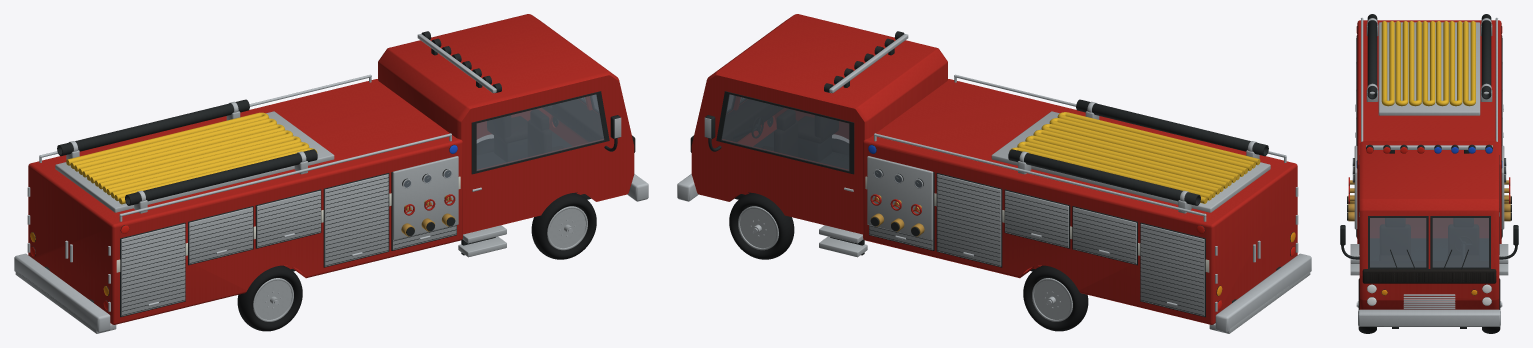
The model's file is fire-engine.glb.
3 renders of one model, left to right at view 1: azimuth 30°, elevation 25°; view 2: azimuth 150°, elevation 25°; view 3: azimuth 270°, elevation 25°, orthographic. The views are drawn at different scales.
Visible parts, largest first — view 1: Finite closed equipment module with wheel bays, Axle 1 left wheel bearing hub, Axle 1 bowed spring leaf 590 0, Seated folded delivery hose 0, Axle 1 left wheel seated through axle, Cab 1 side window finite glazing, Axle 1 left wheel rounded tyre carcass, Cab seat 1 backrest; view 2: Finite closed equipment module with wheel bays, Axle 1 left wheel bearing hub, Axle 1 bowed spring leaf 590 0, Seated folded delivery hose 0, Axle 1 left wheel seated through axle, Cab 1 side window finite glazing, Axle 1 left wheel rounded tyre carcass, Cab seat 1 backrest; view 3: Finite closed equipment module with wheel bays, Seated folded delivery hose 0, Axle 1 bowed spring leaf 590 0, Cab 1 side window finite glazing, Axle 1 left wheel bearing hub, Cab seat 1 backrest, Axle 1 left wheel seated through axle, Pump hose coupling 1 0, Axle 1 left wheel rounded tyre carcass, Forward headlamp 1 0 finite curved optic, Module side warning 1 0 finite curved optic, Module side warning 1 1 finite curved optic.
Boxes of the visible parts, <box> form: Finite closed equipment module with wheel bays: <box>28,14,634,324</box>; Axle 1 left wheel bearing hub: <box>15,111,587,333</box>; Axle 1 bowed spring leaf 590 0: <box>31,31,620,317</box>; Seated folded delivery hose 0: <box>66,112,317,204</box>; Axle 1 left wheel seated through axle: <box>14,34,648,332</box>; Cab 1 side window finite glazing: <box>404,94,604,187</box>; Axle 1 left wheel rounded tyre carcass: <box>237,138,596,331</box>; Cab seat 1 backrest: <box>487,99,635,156</box>; Finite closed equipment module with wheel bays: <box>691,14,1297,324</box>; Axle 1 left wheel bearing hub: <box>738,111,1310,333</box>; Axle 1 bowed spring leaf 590 0: <box>705,31,1294,317</box>; Seated folded delivery hose 0: <box>1009,112,1260,203</box>; Axle 1 left wheel seated through axle: <box>677,34,1311,332</box>; Cab 1 side window finite glazing: <box>721,94,921,187</box>; Axle 1 left wheel rounded tyre carcass: <box>729,138,1088,331</box>; Cab seat 1 backrest: <box>690,99,838,156</box>; Finite closed equipment module with wheel bays: <box>1348,20,1510,309</box>; Seated folded delivery hose 0: <box>1381,21,1475,106</box>; Axle 1 bowed spring leaf 590 0: <box>1340,14,1518,328</box>; Cab 1 side window finite glazing: <box>1370,218,1488,267</box>; Axle 1 left wheel bearing hub: <box>1350,22,1508,307</box>; Cab seat 1 backrest: <box>1362,218,1496,283</box>; Axle 1 left wheel seated through axle: <box>1340,17,1518,326</box>; Pump hose coupling 1 0: <box>1348,180,1510,221</box>; Axle 1 left wheel rounded tyre carcass: <box>1358,278,1500,333</box>; Forward headlamp 1 0 finite curved optic: <box>1367,284,1491,305</box>; Module side warning 1 0 finite curved optic: <box>1356,26,1502,153</box>; Module side warning 1 1 finite curved optic: <box>1356,147,1502,167</box>.
Size of the model in its own units: 9.28 by 3.03 by 3.1.
14 materials, 9 textured.
